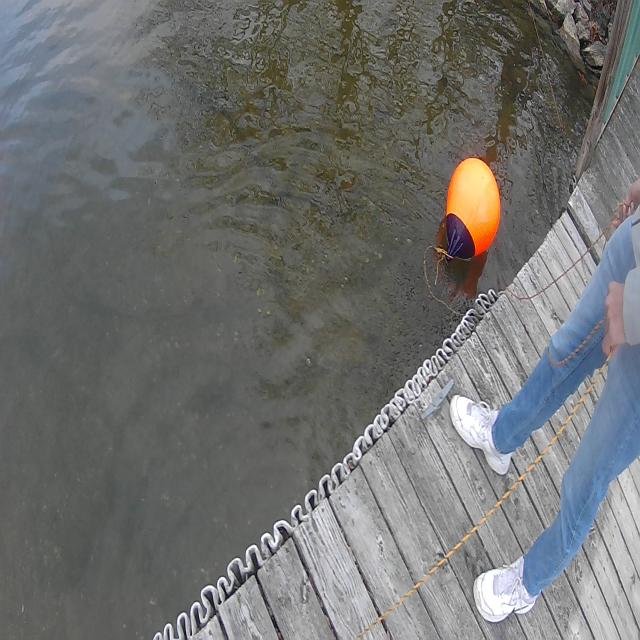Buoy: (434, 139, 504, 279)
